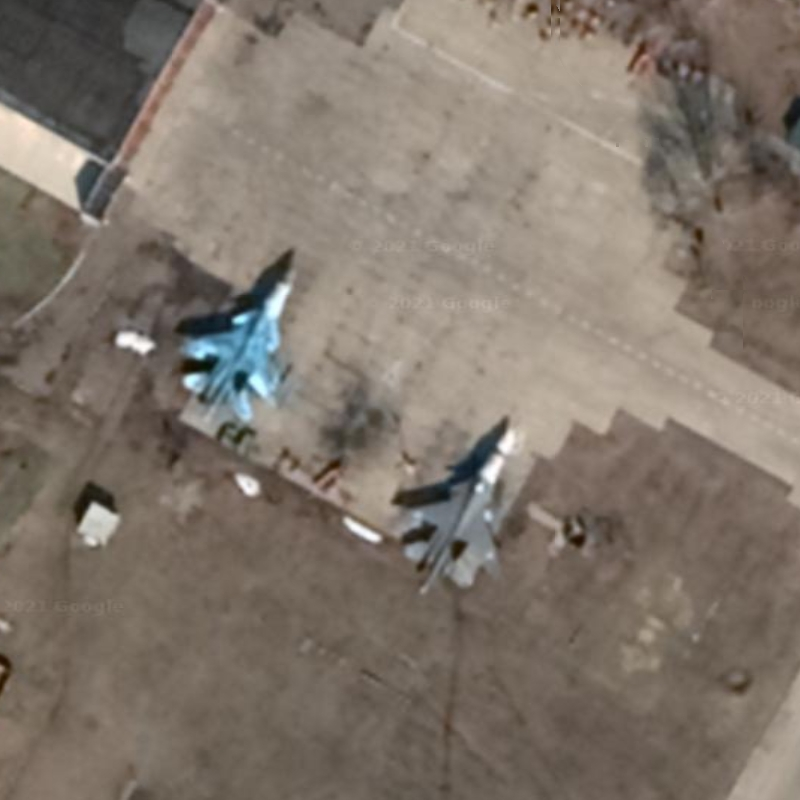A19: (393, 423, 518, 601), (177, 261, 301, 428)
